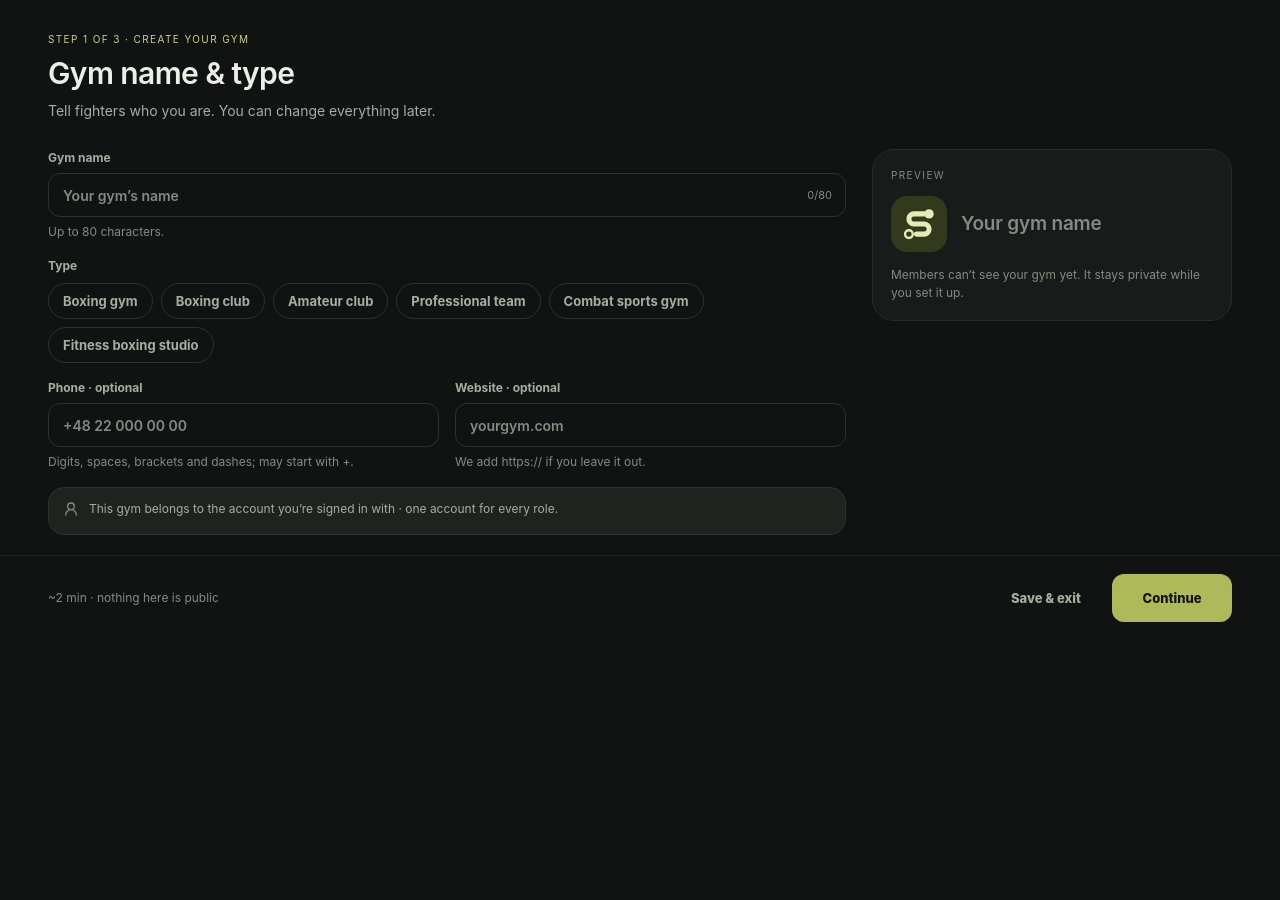
TypeStep (OG1) › explains the creation limit with its retry time
Type "Simple Boxing Gym" into the field labelled "Gym name" at (447, 195), box [48,173,846,217]
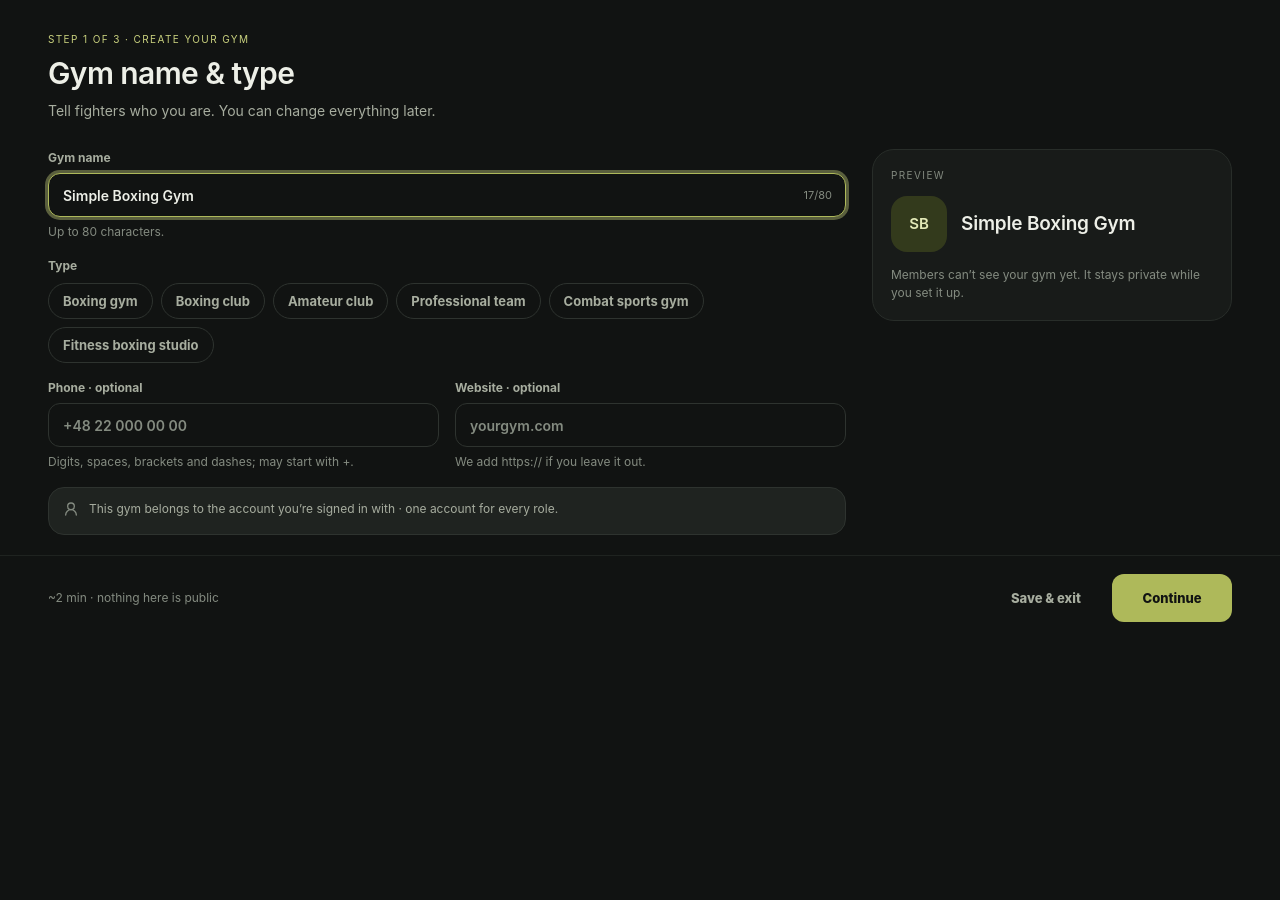
Click the radio button labelled "Boxing gym" at (100, 301), box [48,283,153,319]
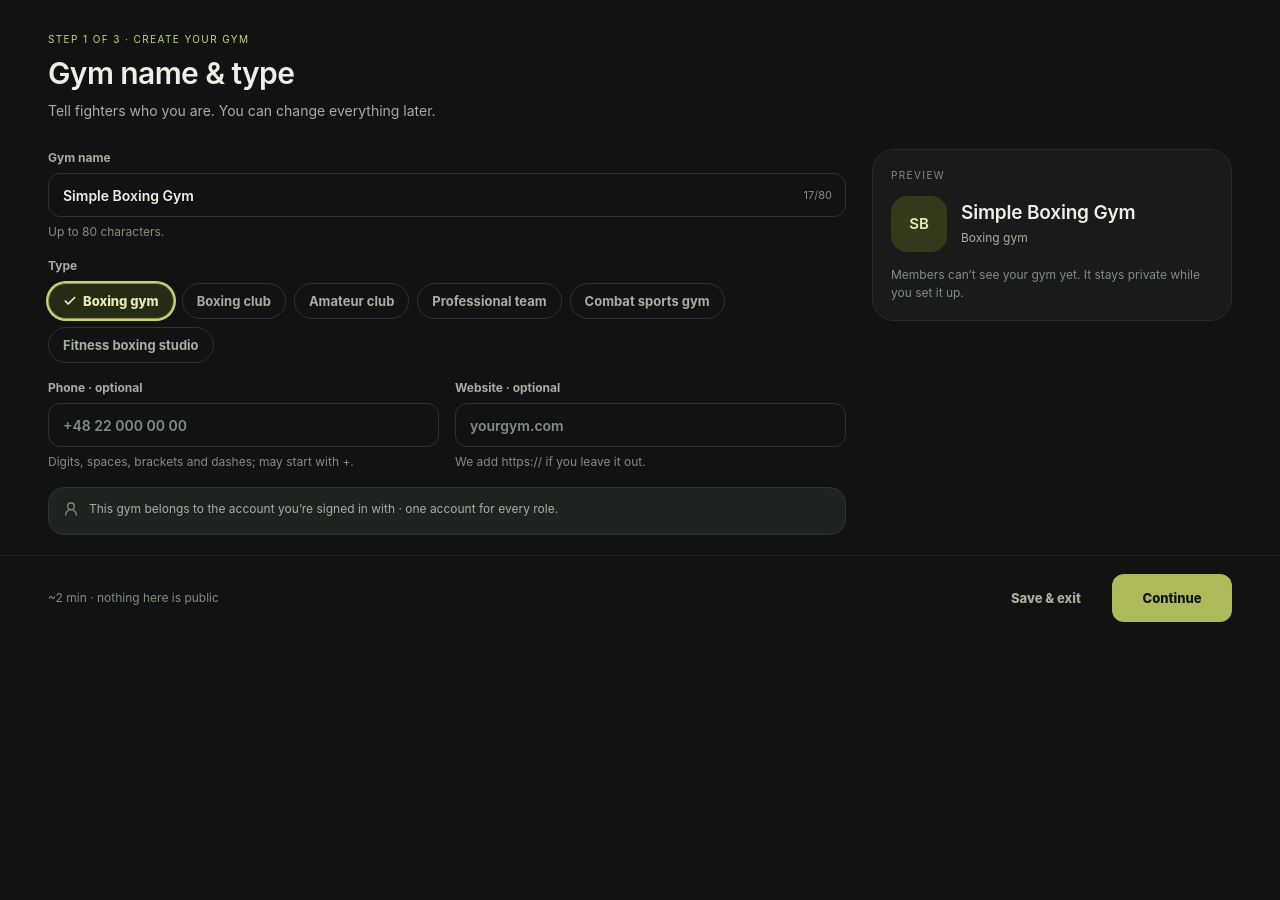
Click the button "Continue" at (1172, 598), box [1112,574,1232,622]
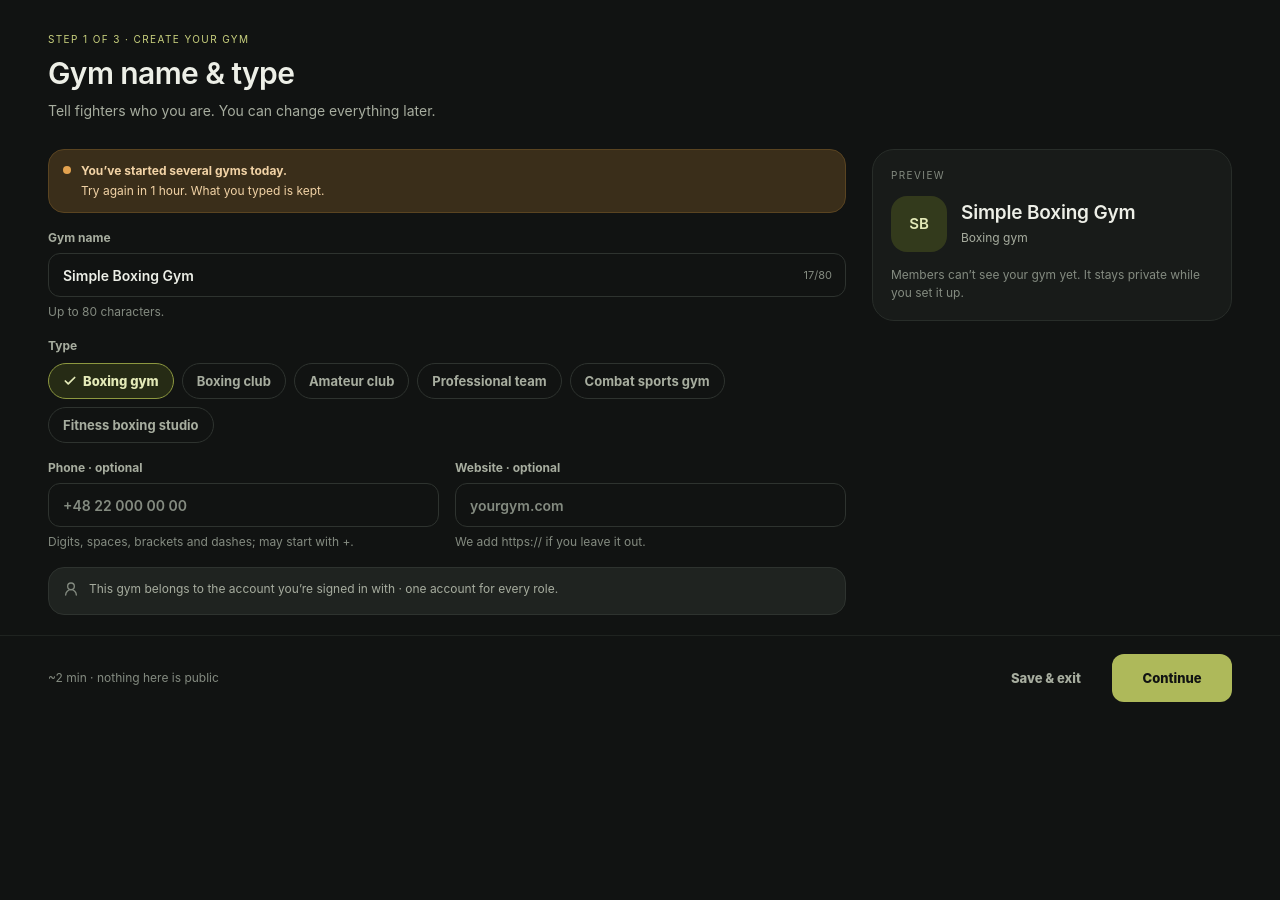
Result: the text "You’ve started several gyms today." is shown at [81,163,287,178]
Result: the text "Try again in 1 hour. What you typed is kept." is shown at [81,182,324,200]
